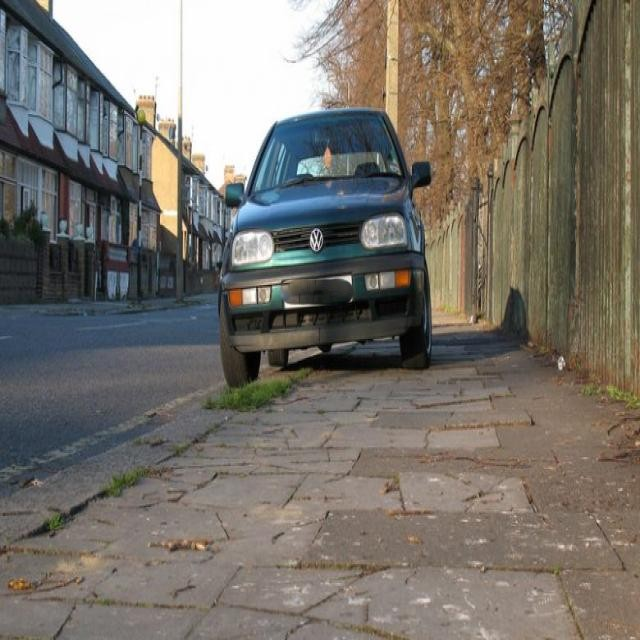car: (217, 100, 435, 386)
